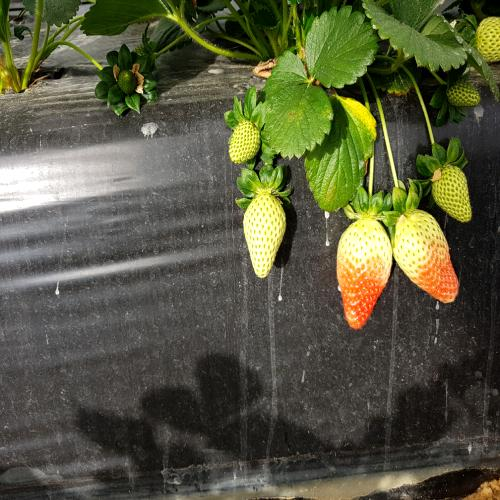partially-ripe: (328, 196, 396, 338), (394, 206, 462, 312)
